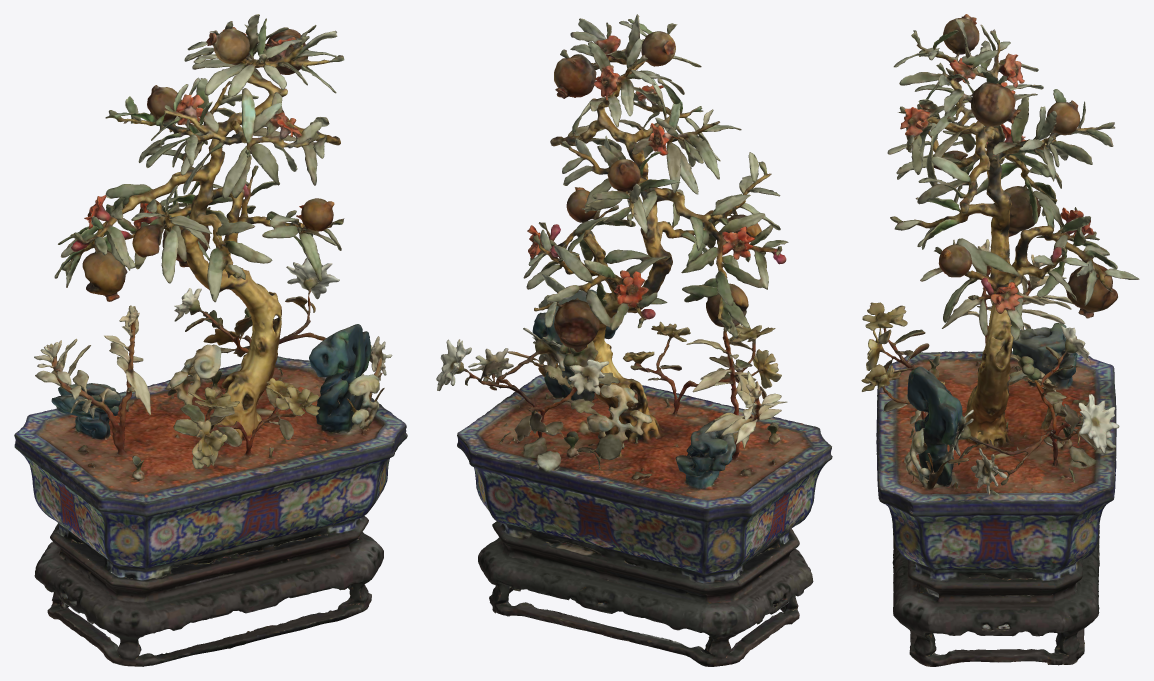
File: chau-canh-vang-la-ngoc.glb
3 renders of one model, left to right at view 1: azimuth 30°, elevation 25°; view 2: azimuth 150°, elevation 25°; view 3: azimuth 270°, elevation 25°, orthographic. The views are drawn at different scales.
Parts seen in each view (by area): view 1: Polygonal_Model_1 2; view 2: Polygonal_Model_1 2; view 3: Polygonal_Model_1 2.
Boxes of the visible parts, x1,y1,x2,y2 form: Polygonal_Model_1 2: [14, 14, 407, 666]; Polygonal_Model_1 2: [436, 14, 832, 666]; Polygonal_Model_1 2: [861, 14, 1139, 666].
Bounding box in the file's own units: 0.5769 × 0.991 × 0.4145.
1 material, 1 textured.
